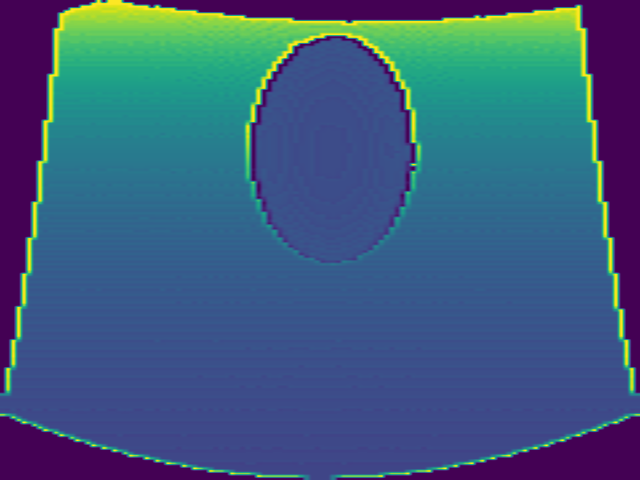sphere: (245, 33, 419, 266)
